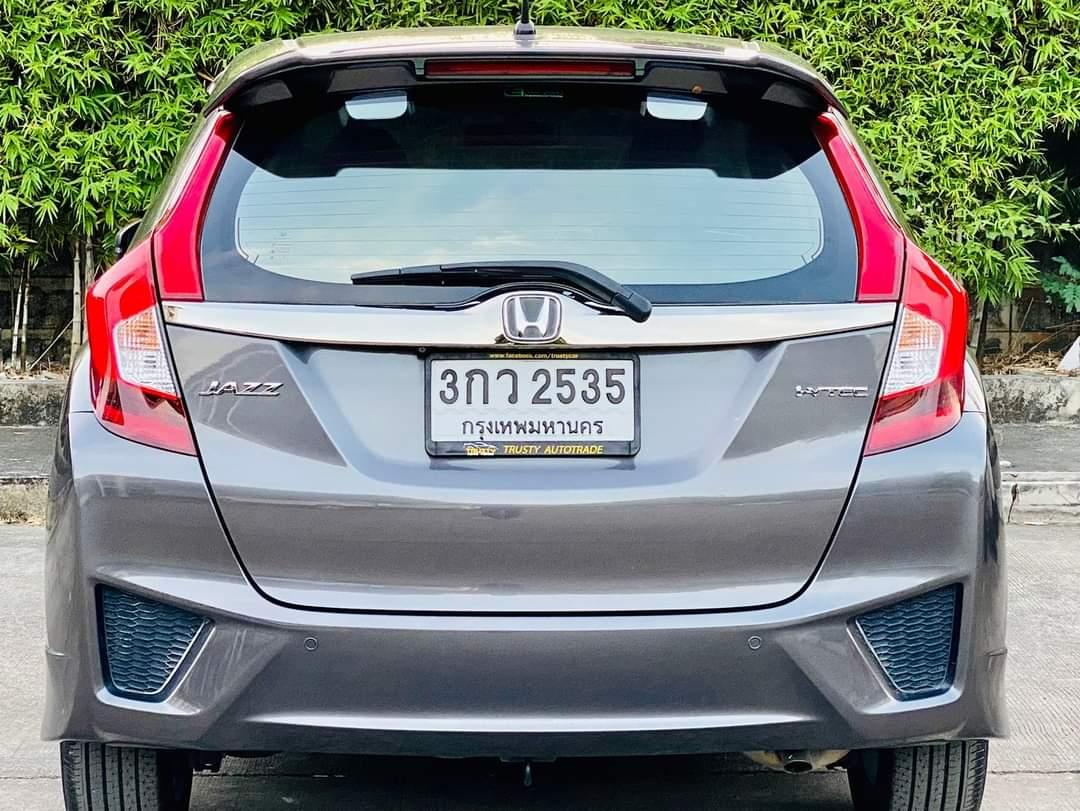license-plate: (419, 345, 641, 466)
